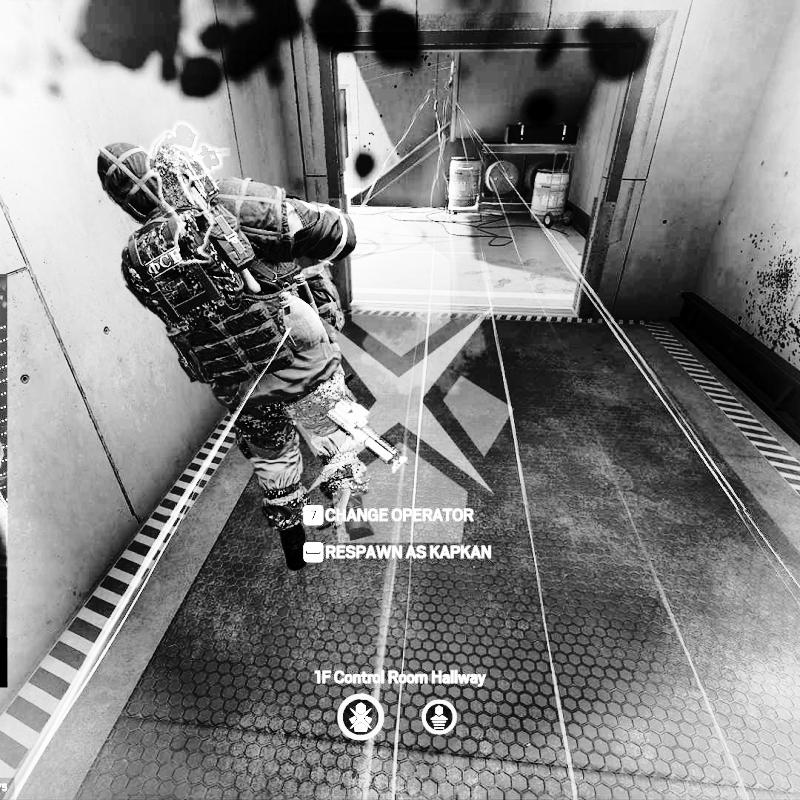Character: (92, 137, 377, 575)
Head: (96, 142, 180, 219)
